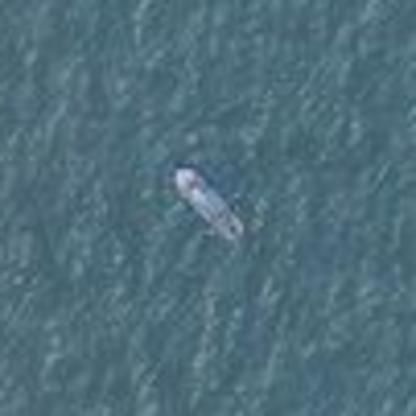ship: (161, 158, 255, 245)
